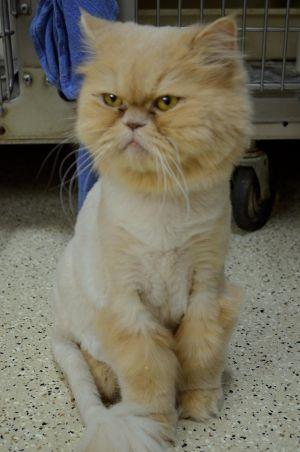persian: (64, 2, 253, 196)
